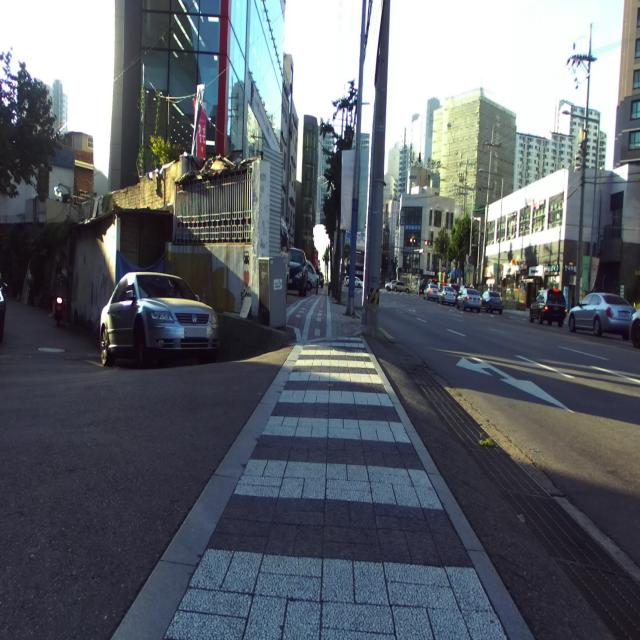횡단보도: (165, 338, 508, 640)
